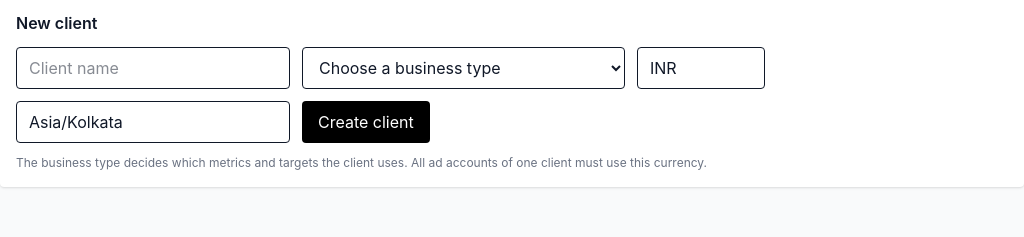
Test case: NewClientForm › posts the chosen business_type
Type "Acme" into the field with placeholder "Client name" at (153, 68), box [16,47,290,89]
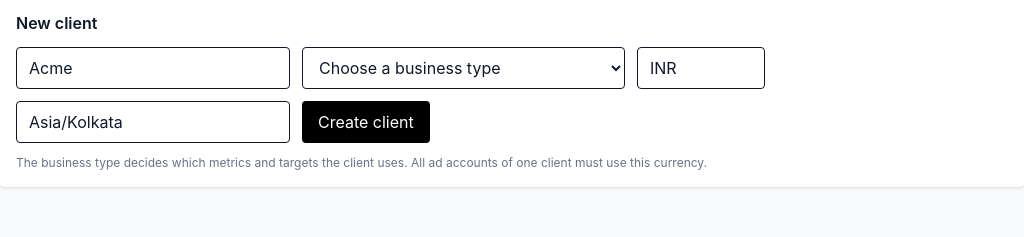
Select "SaaS / B2B Leads" in the dropdown named "Business type" at (464, 68), box [302,47,625,89]
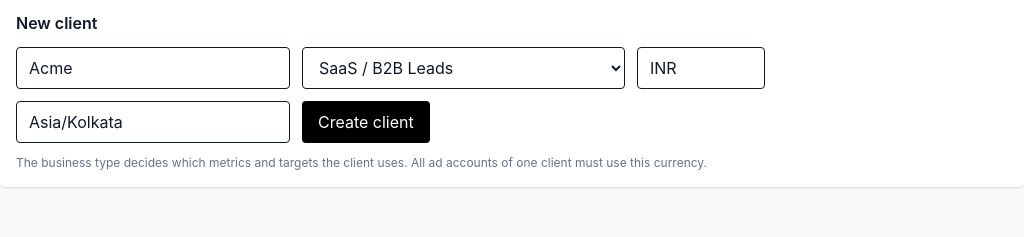
Click the button "Create client" at (366, 122), box [302,101,430,143]
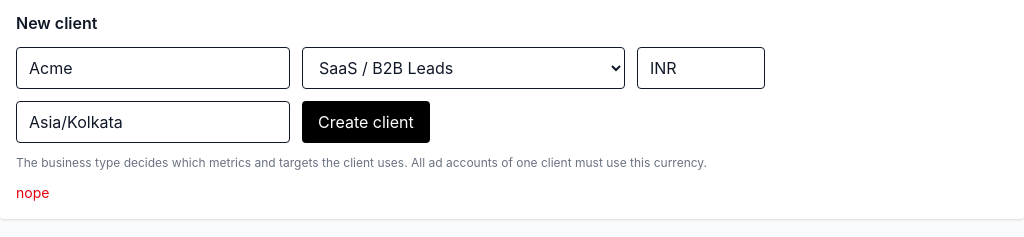
expect the message reads "nope": met, box [16,184,49,201]
